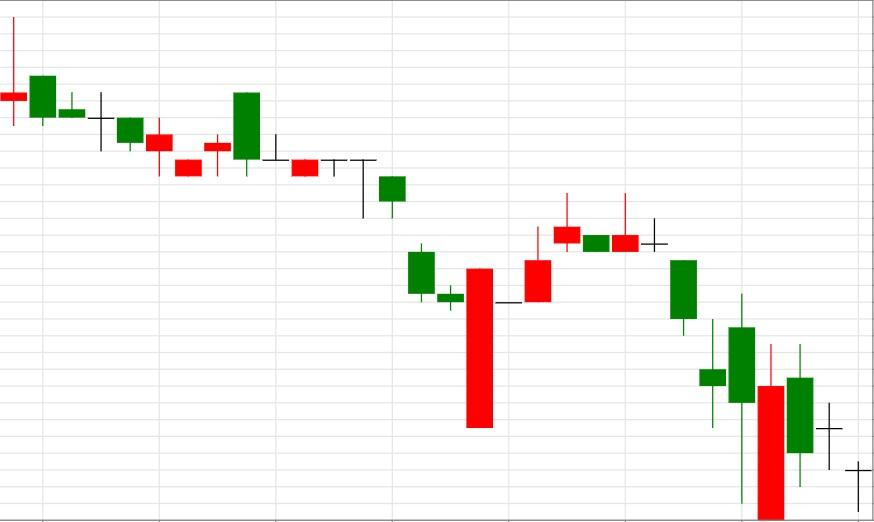bullish_engulfing_rise: (321, 158, 494, 429)
shooting_star_fall: (466, 192, 640, 429)
